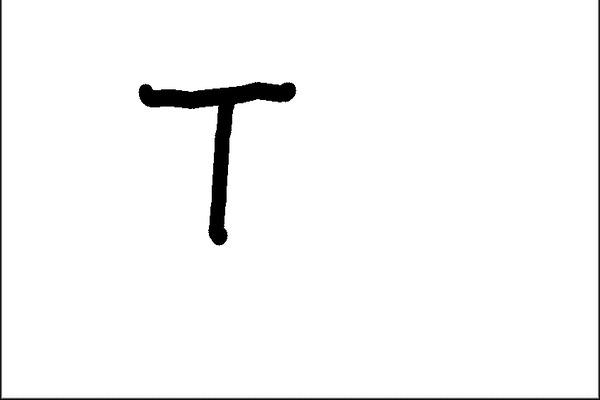T: (129, 78, 306, 248)
